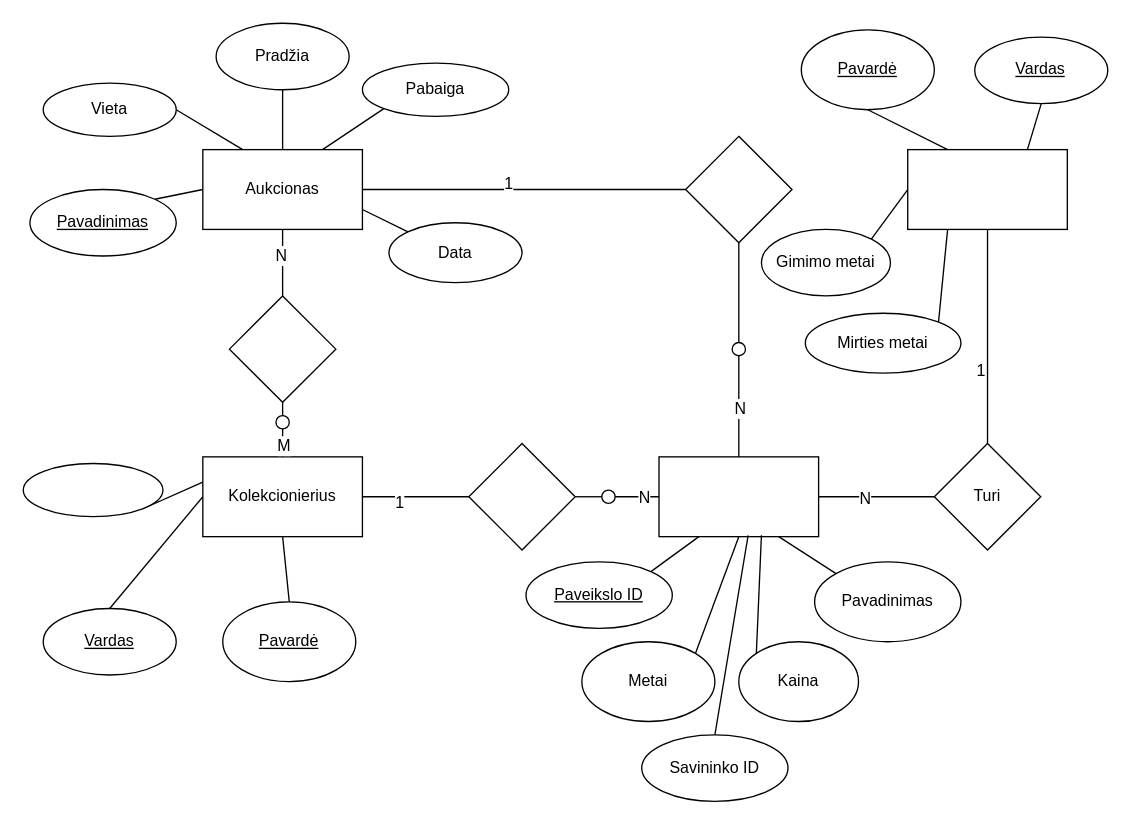
The diagram is 1132 pixels wide and 825 high, and some of its shapes have lost their labels. The centre of each missing label's shape, as x and y in pixels:
"Dailininkas" goes at pixel 986 188.
"Dalyvauja" goes at pixel 282 348.
"Dalyvio ID" goes at pixel 92 489.
"Parduoda" goes at pixel 738 189.
"Paveikslas" goes at pixel 738 496.
"Perka" goes at pixel 521 496.
